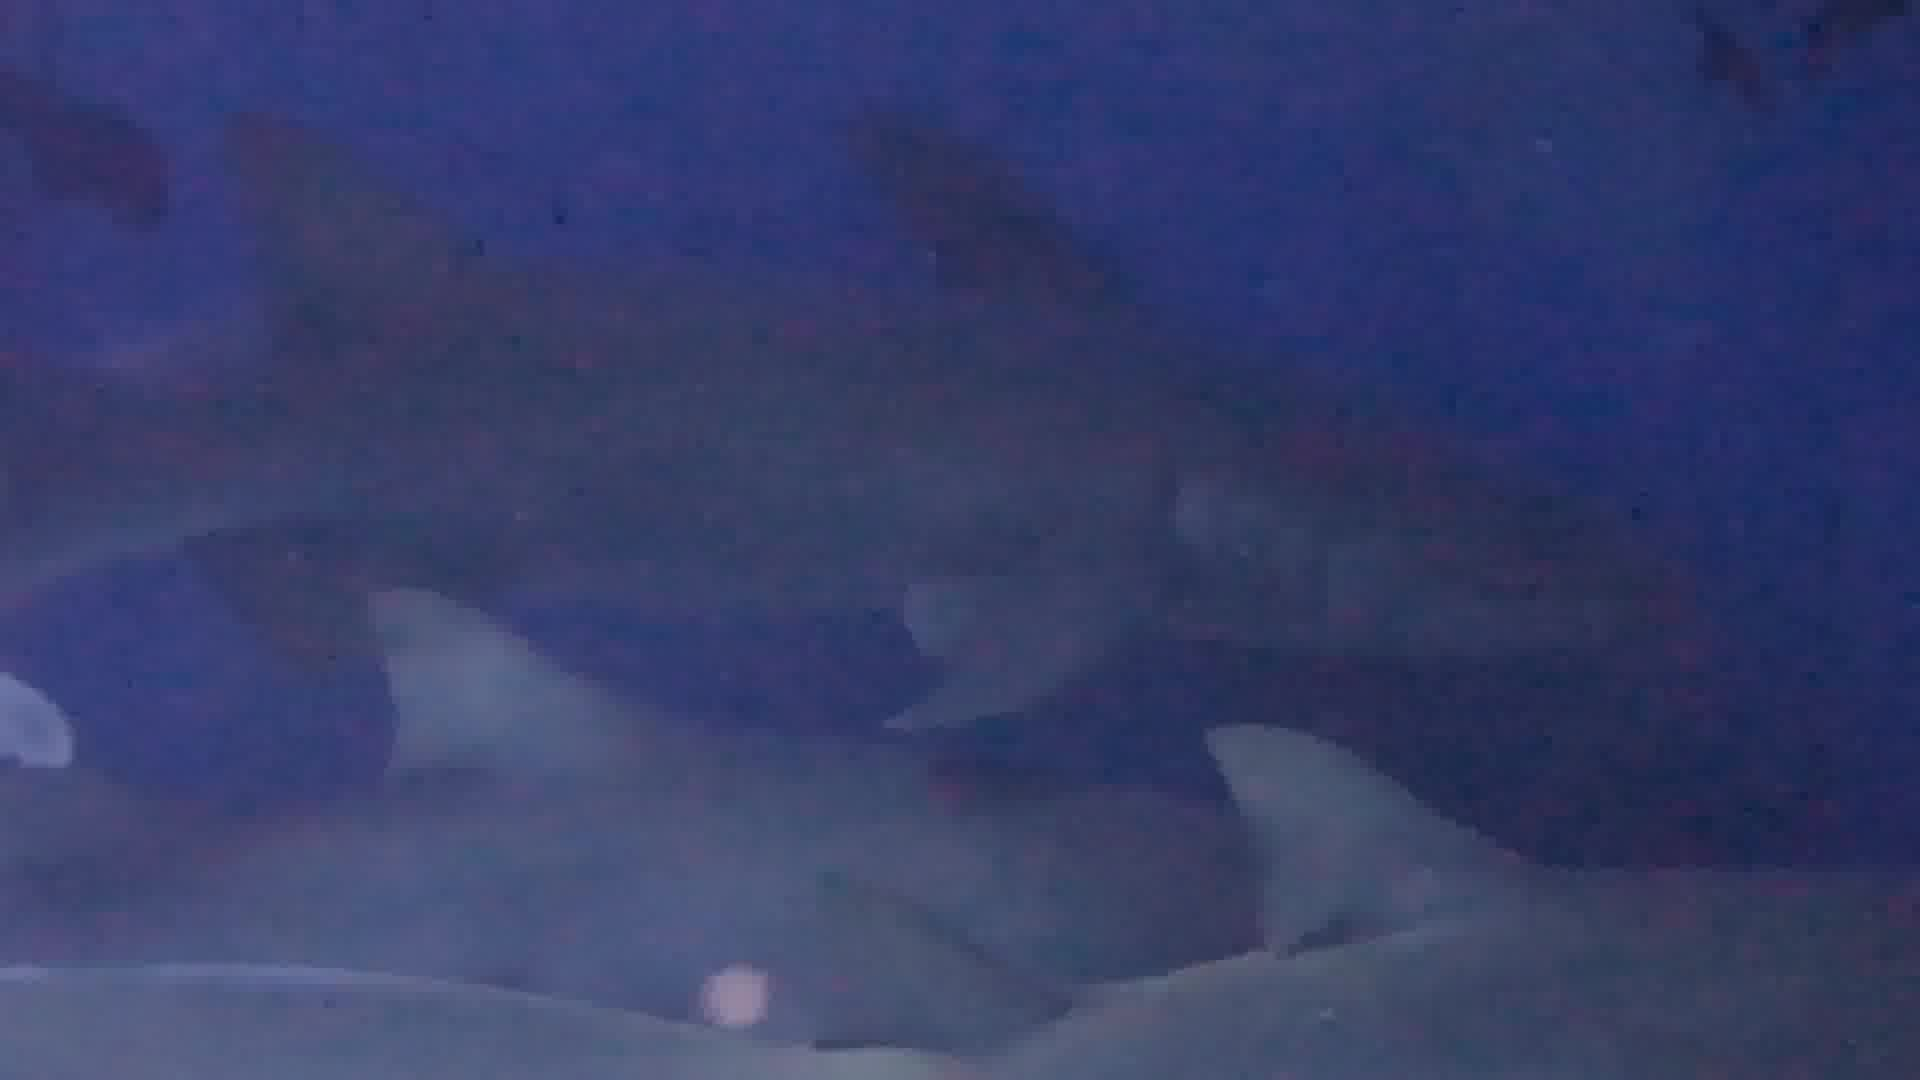Nebrius ferrugineus: (1, 120, 1708, 711)
